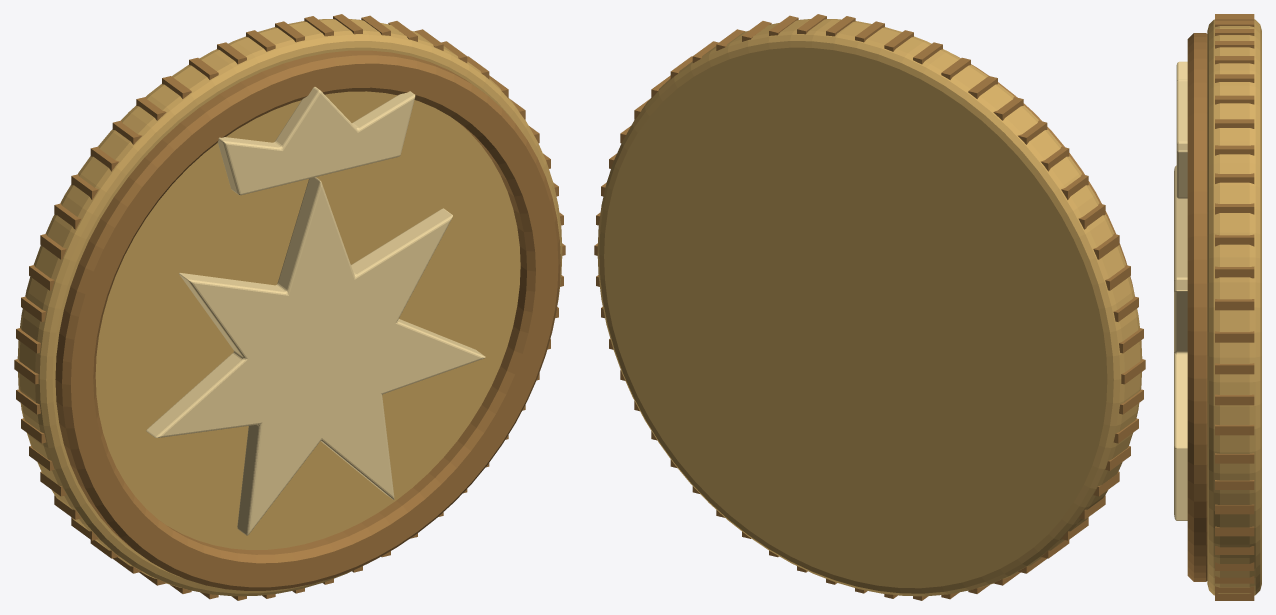
Rendered from GROSCHEN_COIN.hi.glb.
3 views of the same model, side by side, from view 1: azimuth 30°, elevation 25°; view 2: azimuth 150°, elevation 25°; view 3: azimuth 270°, elevation 25° (orthographic). The views are drawn at different scales.
Visible parts, largest first — view 1: Body_Mesh; view 2: Body_Mesh; view 3: Body_Mesh.
Part boxes in pixels (box(x1,y1,x2,y2)): Body_Mesh: box(14, 14, 565, 600); Body_Mesh: box(594, 14, 1145, 600); Body_Mesh: box(1174, 14, 1261, 600).
Size of the model in its own units: 0.236 by 0.236 by 0.0355.
Materials: 1 (1 with a texture image).
